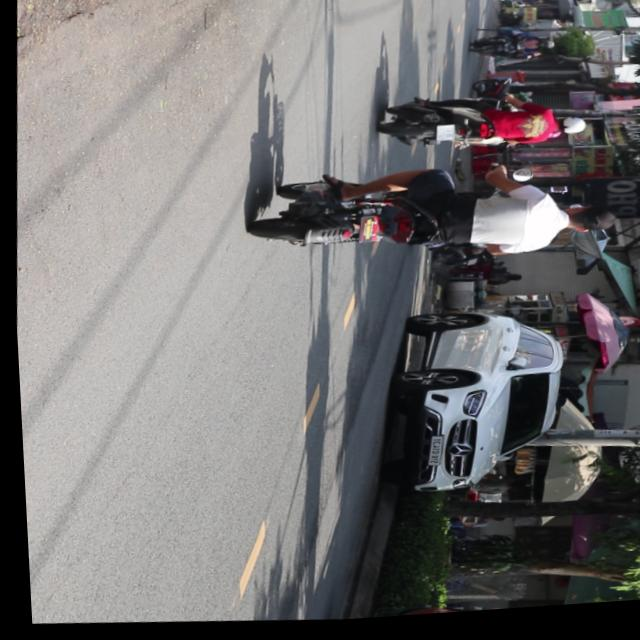helmet: (555, 124, 586, 145)
licenseplate: (240, 154, 620, 282), (373, 91, 589, 167)
motorcyclist: (557, 210, 615, 245)
nohelmet: (434, 131, 454, 149)
